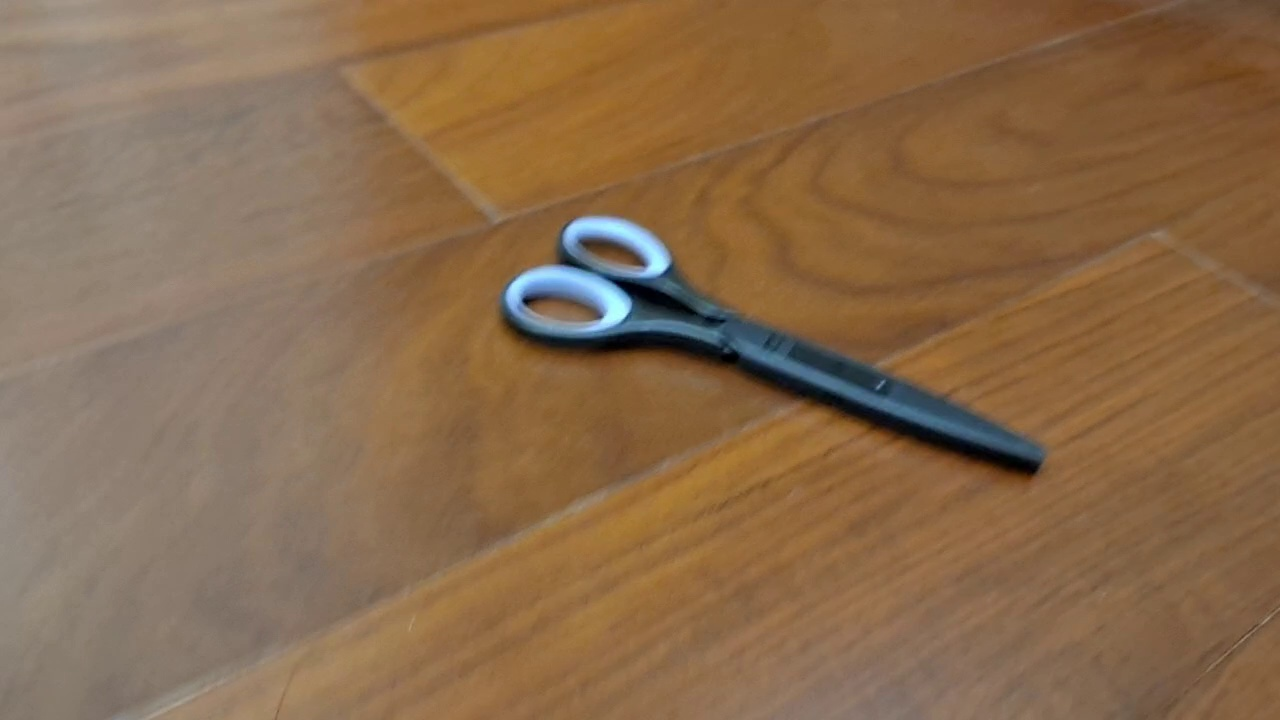scissors: (499, 214, 1047, 479)
